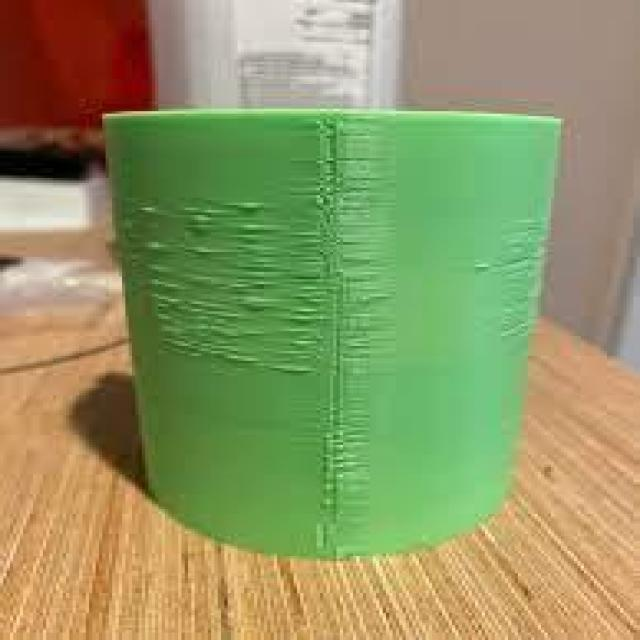spaghetti: (114, 170, 401, 380), (308, 411, 378, 564), (482, 214, 551, 352)
